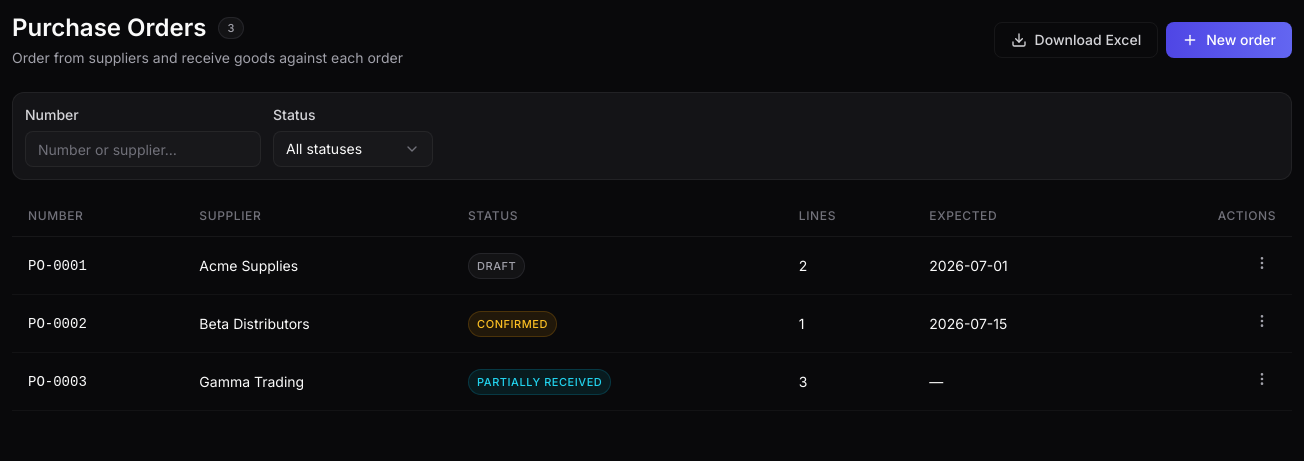
Test case: PurchaseOrderList row actions by status › DRAFT row exposes Confirm + Cancel order + Delete actions
Click the button with test id "po-actions-po-001": (1262, 263) [1248,249,1276,277]
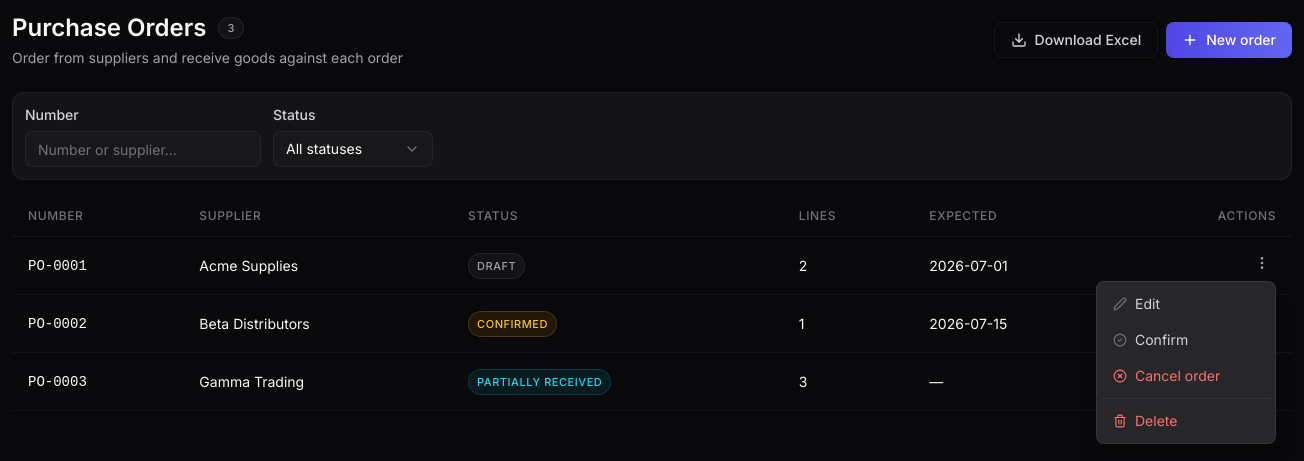
Check: the text "Confirm" is shown, box [1135,330,1188,350]
Check: the text "Cancel order" is shown, box [1135,366,1220,386]
Check: the text "Delete" is shown, box [1135,411,1177,431]
